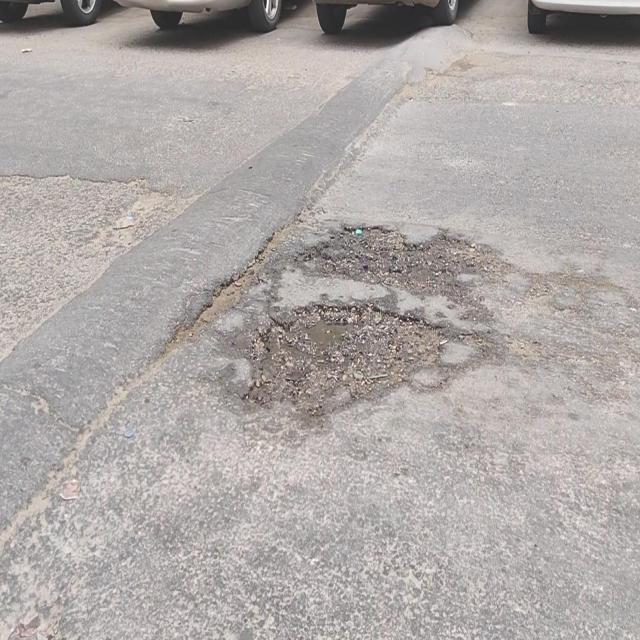Potholes: (240, 297, 449, 413), (298, 220, 489, 320)
